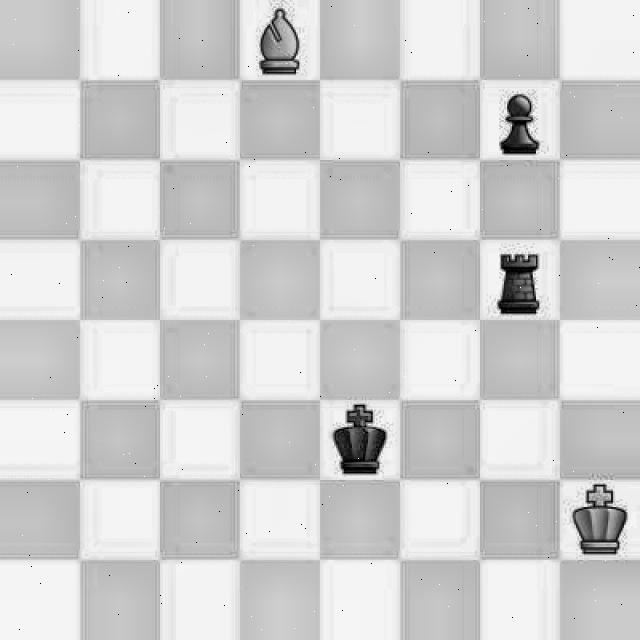black king: (323, 403, 397, 478)
black pawn: (481, 81, 558, 166)
black rook: (476, 242, 558, 321)
white bishop: (241, 0, 316, 82)
white king: (562, 478, 636, 556)
